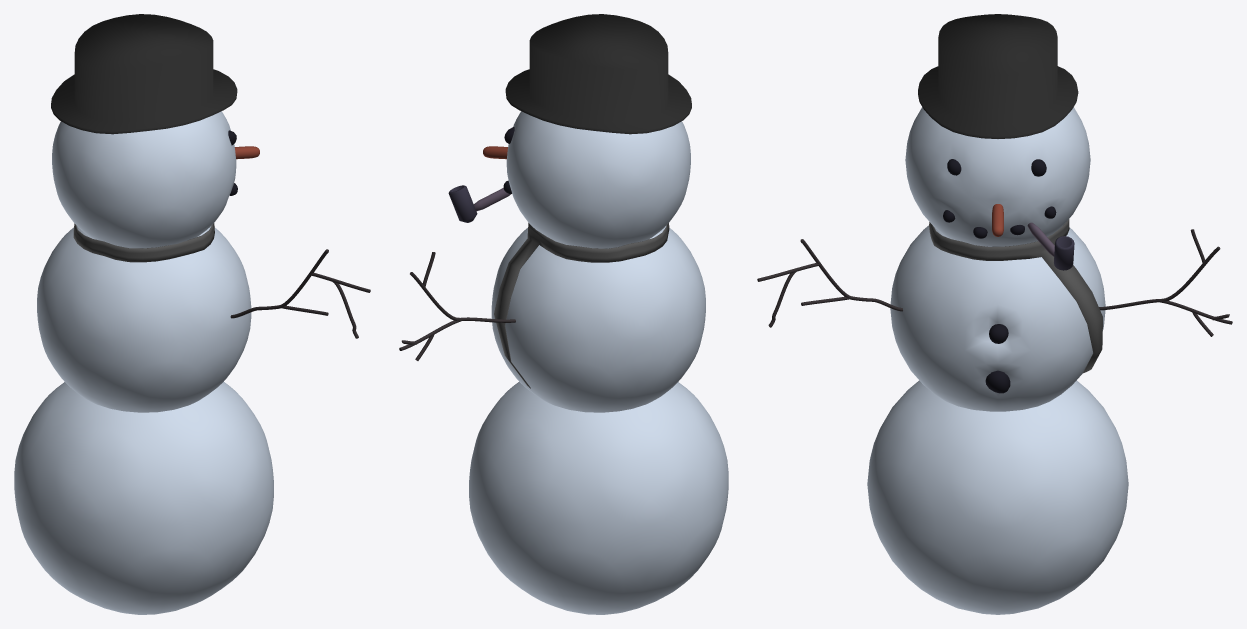
Rendered from Snowman.fbx.
3 views of the same model, side by side, from view 1: azimuth 30°, elevation 25°; view 2: azimuth 150°, elevation 25°; view 3: azimuth 270°, elevation 25° (orthographic).
Visible parts, largest first — view 1: Snowman; view 2: Snowman; view 3: Snowman.
Part boxes in pixels (<box>): Snowman: <box>14,14,370,614</box>; Snowman: <box>399,14,728,614</box>; Snowman: <box>757,14,1232,614</box>.
Bounding box in the file's own units: 145 × 343 × 261.
